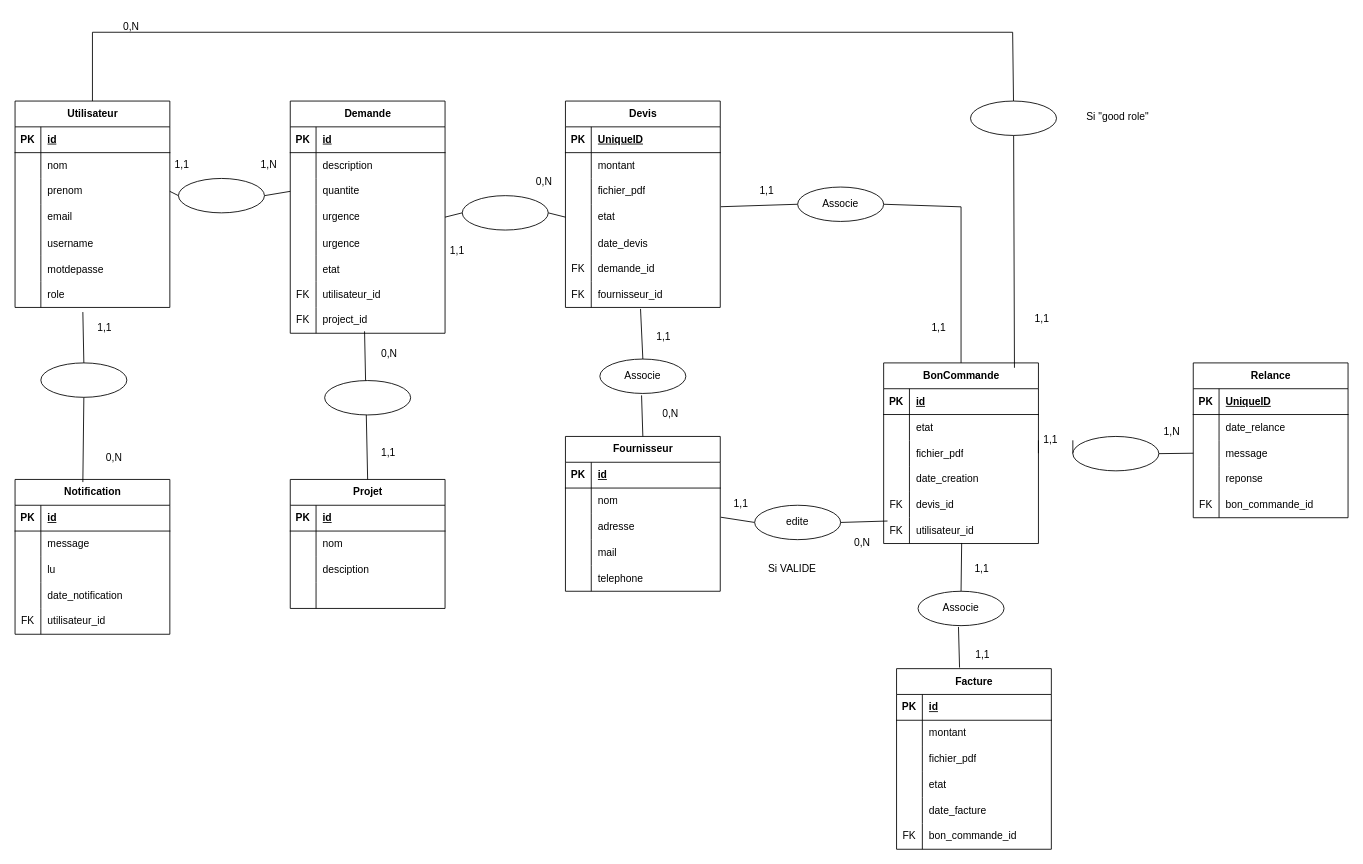
Image size: 1363x864. Some labels were removed from this diagram. The centre of each missing label's shape, as x and y in pixels:
"Appartient" belongs at (x=367, y=397).
"Crée" belongs at (x=504, y=212).
"possibilite" belongs at (x=1115, y=453).
"Realise" belongs at (x=221, y=195).
"Reçoit" belongs at (x=83, y=379).
"Signe" belongs at (x=1013, y=117).
